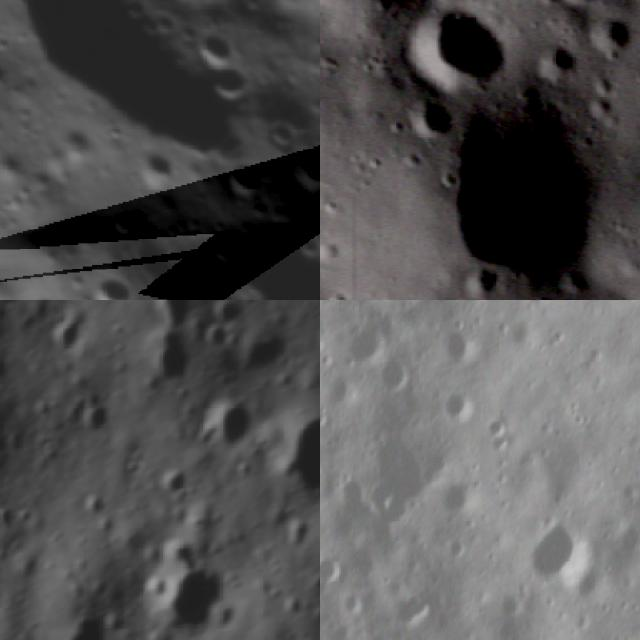crater: (451, 114, 604, 298), (101, 242, 320, 300), (405, 0, 519, 86), (516, 517, 592, 597), (158, 562, 229, 638), (279, 398, 320, 507), (196, 49, 262, 115), (182, 13, 247, 78), (124, 136, 186, 198), (44, 114, 105, 174), (196, 219, 256, 279), (216, 150, 274, 207), (204, 401, 262, 453), (400, 91, 458, 142), (391, 584, 443, 636), (81, 260, 147, 300), (149, 334, 198, 386), (337, 315, 384, 368), (44, 304, 90, 358), (280, 137, 320, 195), (259, 108, 307, 156), (538, 36, 587, 82), (432, 480, 478, 529), (586, 12, 638, 55), (71, 392, 115, 442), (56, 604, 116, 640), (432, 324, 476, 368), (0, 138, 34, 191), (461, 260, 502, 300), (372, 358, 410, 399), (440, 388, 478, 426), (144, 300, 196, 327), (163, 467, 195, 502), (320, 554, 346, 593), (358, 620, 399, 640), (550, 0, 614, 10)
